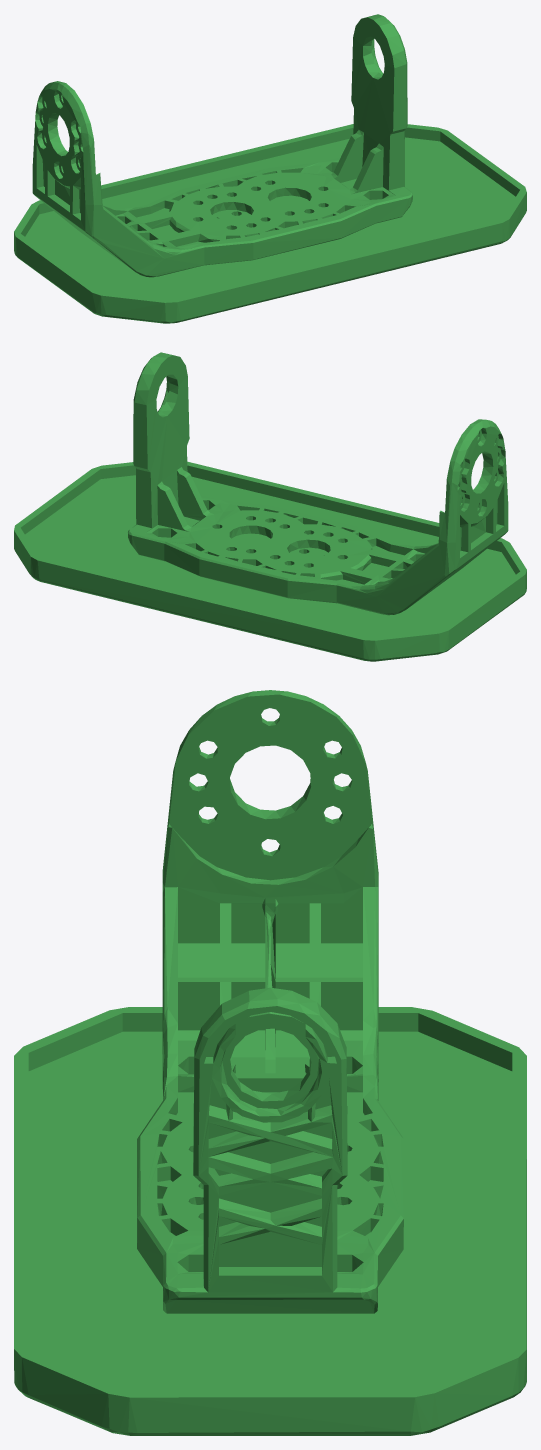
Rendered from bone15.DAE.
3 views of the same model, one above another, from view 1: azimuth 30°, elevation 25°; view 2: azimuth 150°, elevation 25°; view 3: azimuth 270°, elevation 25° (orthographic). The views are drawn at different scales.
Parts seen in each view (by area): view 1: Imported1, DRB-0010; view 2: Imported1, DRB-0010; view 3: Imported1, DRB-0010.
Part boxes in pixels (x1,y1,x2,y2): Imported1: (14,124,526,323); DRB-0010: (32,14,412,277); Imported1: (14,461,526,661); DRB-0010: (128,352,508,615); Imported1: (14,1007,526,1435); DRB-0010: (137,690,403,1313).
Size of the model in its own units: 89.87 by 49.87 by 39.45.
